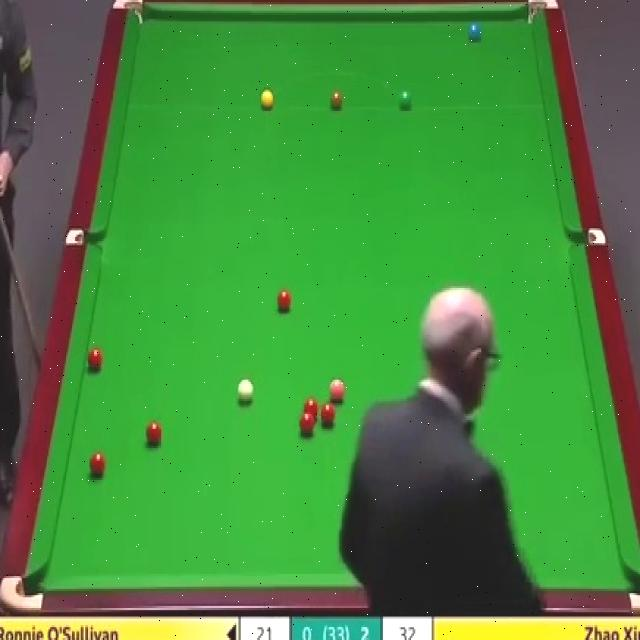blue-ball: (466, 17, 483, 43)
brown-ball: (329, 90, 344, 112)
green-ball: (398, 90, 413, 112)
pink-ball: (326, 378, 345, 404)
red-ball: (88, 450, 107, 480), (145, 422, 162, 450), (298, 412, 316, 438), (276, 288, 293, 314), (318, 402, 336, 426), (86, 347, 102, 372), (302, 398, 319, 420)
white-ball: (237, 377, 256, 407)
yellow-ball: (260, 89, 275, 111)
